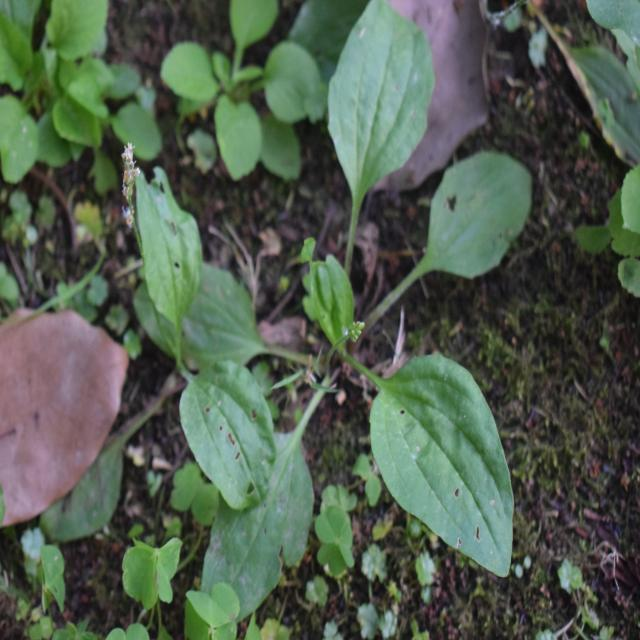plantain: (159, 36, 521, 578)
